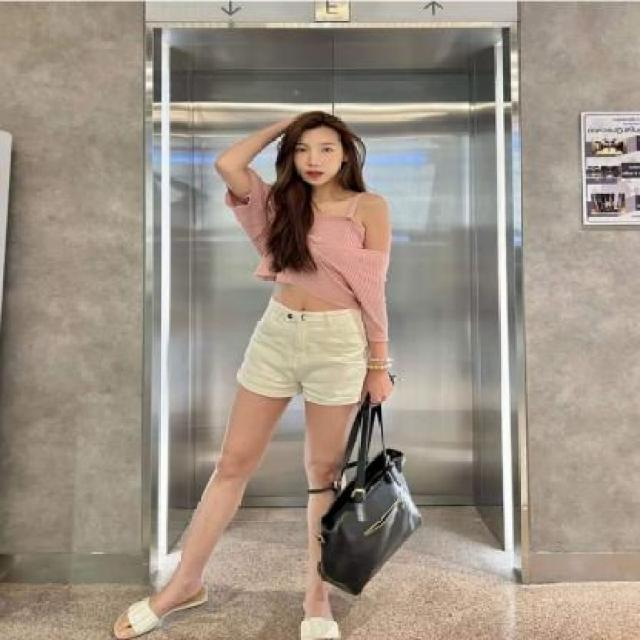sem_oculos: (274, 137, 355, 163)
